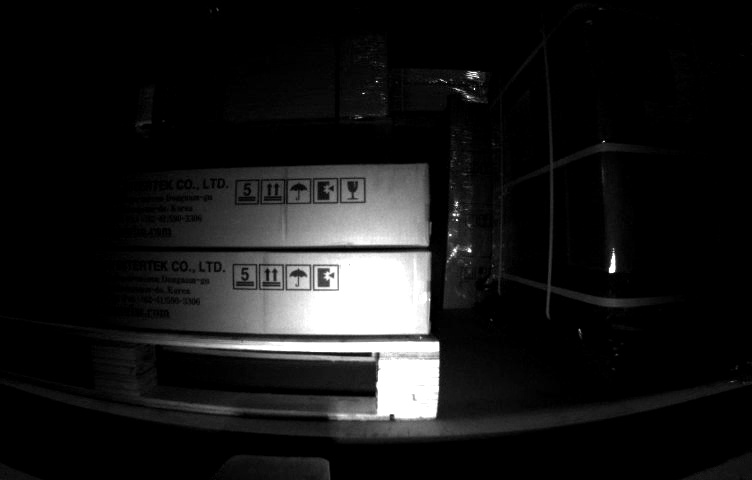True Barcode: (343, 260, 403, 317)
